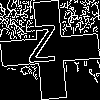Z: (25, 25, 59, 72)
